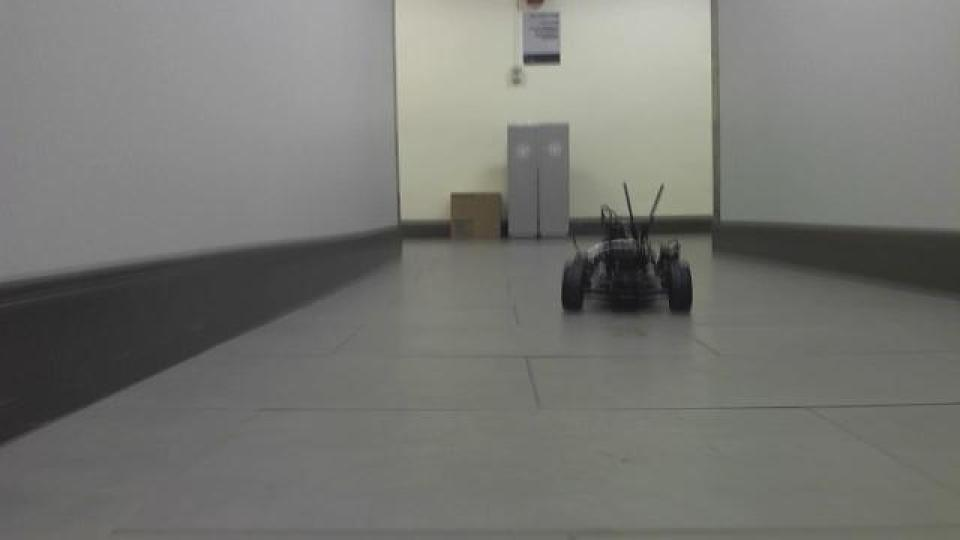car: (556, 178, 696, 318)
